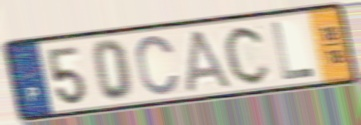0: (90, 37, 136, 103)
5: (44, 43, 91, 106)
A: (185, 27, 235, 94)
C: (222, 23, 273, 87), (134, 33, 182, 98)
L: (269, 20, 317, 82)
